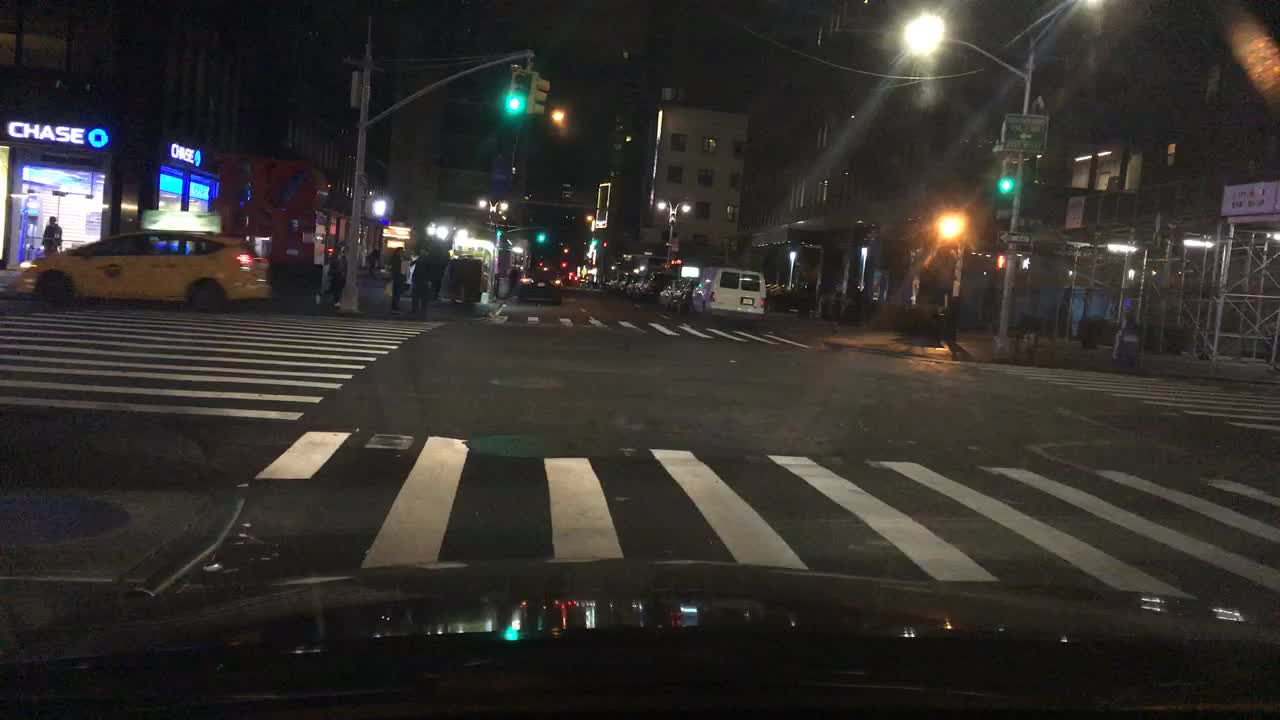car: (6, 209, 275, 315), (690, 265, 769, 324), (516, 261, 565, 307), (671, 273, 703, 307), (638, 273, 675, 297), (621, 272, 648, 297), (658, 278, 685, 302), (612, 270, 633, 292), (604, 273, 624, 287), (567, 270, 581, 286)
person: (405, 246, 440, 319), (314, 239, 347, 310), (381, 245, 410, 314), (37, 218, 62, 253), (363, 246, 378, 272)
traffic light: (526, 76, 550, 115), (503, 71, 523, 111), (995, 158, 1014, 192), (369, 199, 384, 219), (992, 253, 1007, 273), (1016, 255, 1029, 272), (535, 229, 545, 245), (590, 235, 597, 248)
traffic sign: (999, 111, 1046, 152), (995, 226, 1031, 246)
